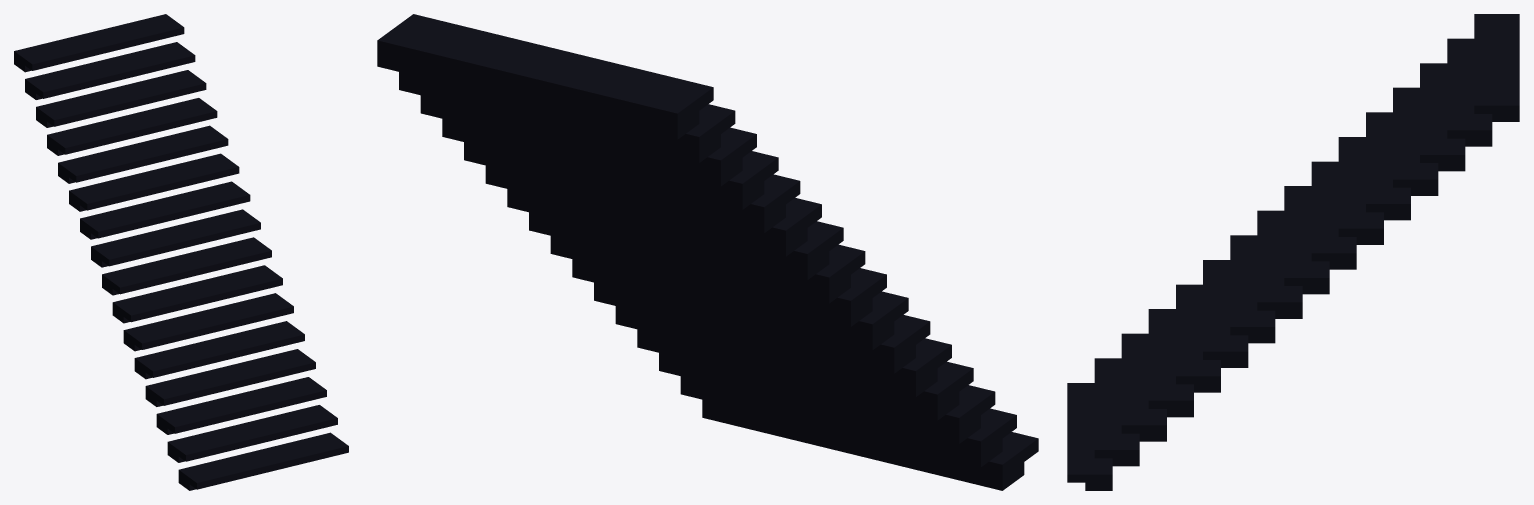
The model's file is LabStairs.obj.
3 renders of one model, left to right at view 1: azimuth 30°, elevation 25°; view 2: azimuth 150°, elevation 25°; view 3: azimuth 270°, elevation 25°, orthographic. The views are drawn at different scales.
Bounding box in the file's own units: 2.4 × 4.7 × 5.
1 material, 1 textured.
